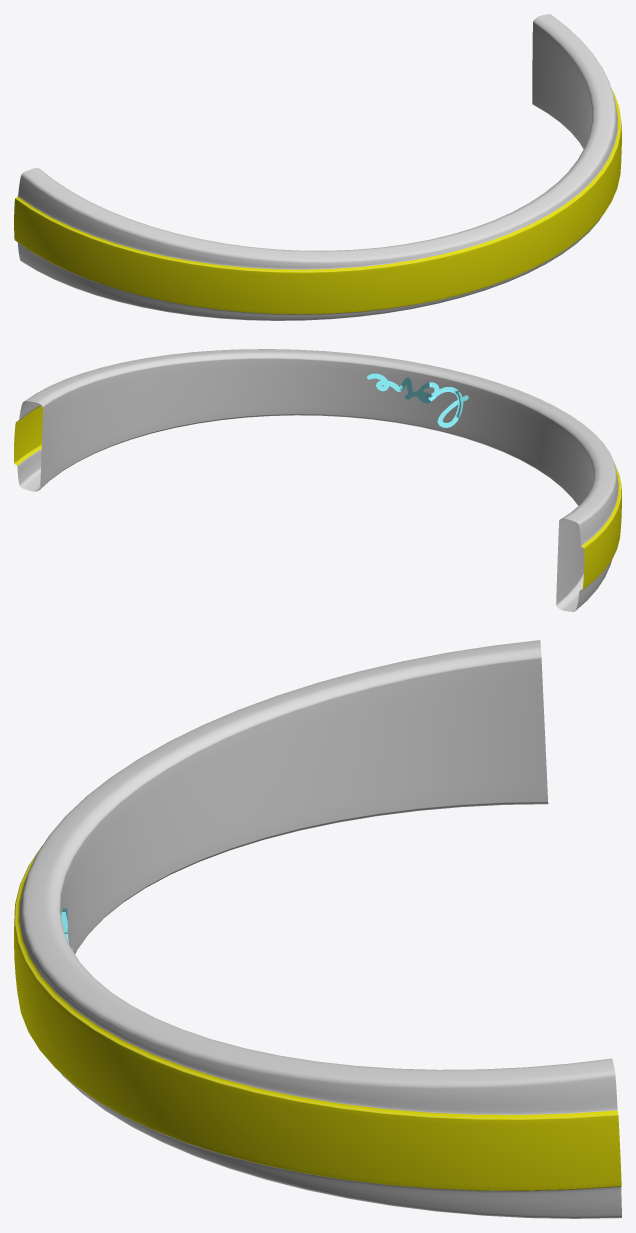
Rendered from Ring_2Bottom.fbx.
3 views of the same model, one above another, from view 1: azimuth 30°, elevation 25°; view 2: azimuth 150°, elevation 25°; view 3: azimuth 270°, elevation 25° (orthographic). The views are drawn at different scales.
Parts seen in each view (by area): view 1: RingBottom; view 2: RingBottom; view 3: RingBottom.
Part boxes in pixels (box(x1,y1,x2,y2)): RingBottom: box(14, 14, 621, 320); RingBottom: box(14, 349, 621, 611); RingBottom: box(14, 640, 621, 1218).
Size of the model in its own units: 3.77 by 0.6429 by 2.11.
